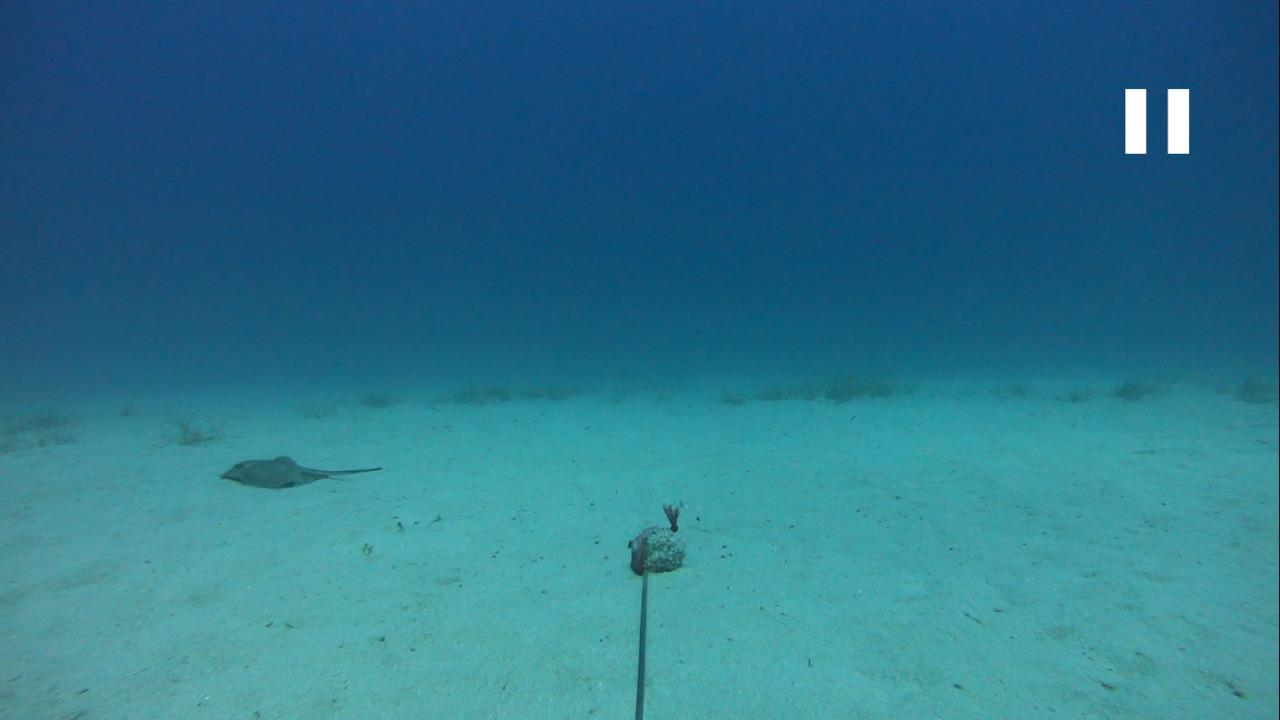myliobatis: (214, 446, 387, 495)
